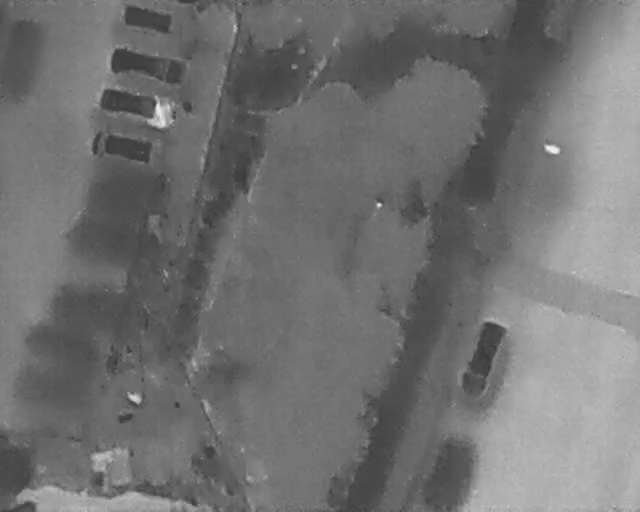Car: (455, 316, 508, 399), (95, 81, 179, 130), (105, 41, 189, 90), (85, 126, 157, 167)
